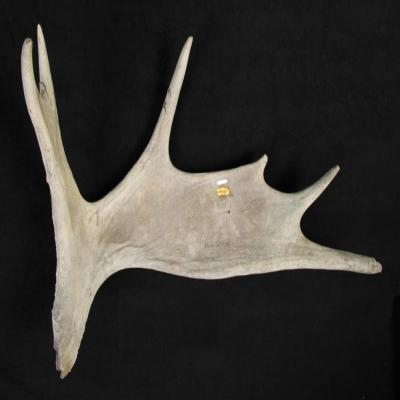natural_science_collection: (20, 25, 382, 381)
